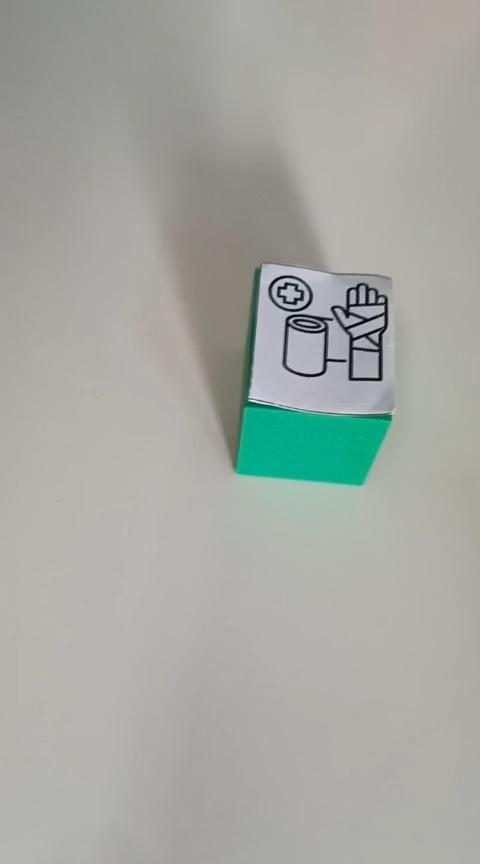Bandages: (234, 261, 396, 486)
